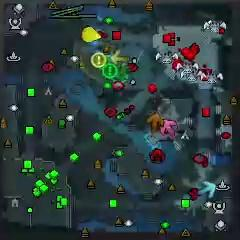Other: (102, 62, 118, 80), (91, 52, 106, 68)
p4: (82, 26, 101, 43)
x1: (159, 119, 175, 135)
x2: (111, 50, 128, 66)
x3: (198, 180, 216, 197)
x5: (147, 113, 164, 132)
